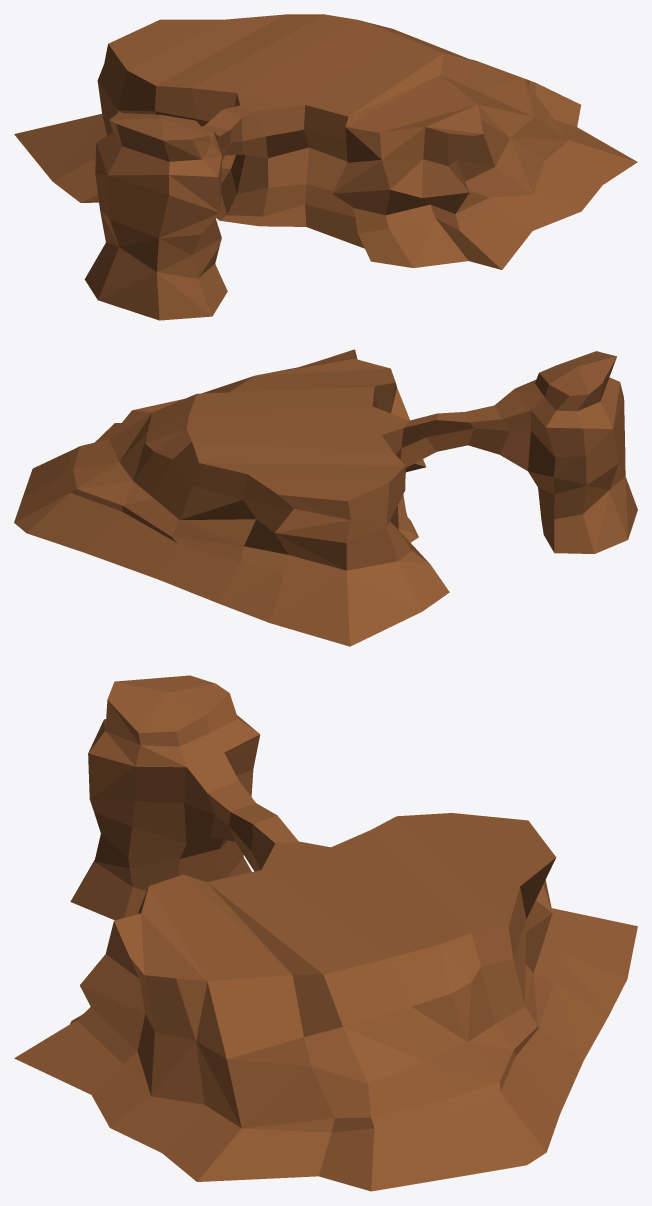
The model's file is polybeach_cliff01.fbx.
3 views of the same model, one above another, from view 1: azimuth 30°, elevation 25°; view 2: azimuth 150°, elevation 25°; view 3: azimuth 270°, elevation 25° (orthographic). The views are drawn at different scales.
Parts seen in each view (by area): view 1: cliff_02; view 2: cliff_02; view 3: cliff_02.
Boxes of the visible parts, box(x1,y1,x2,y2) form: cliff_02: box(14, 14, 637, 320); cliff_02: box(14, 349, 637, 646); cliff_02: box(14, 675, 637, 1191).
Size of the model in its own units: 28.07 by 8.17 by 22.53.
